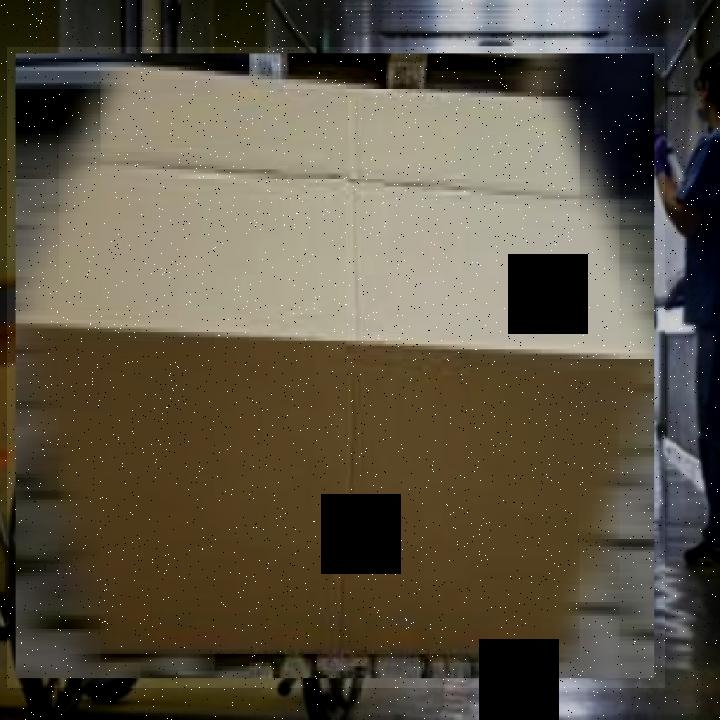box: (7, 47, 665, 690)
